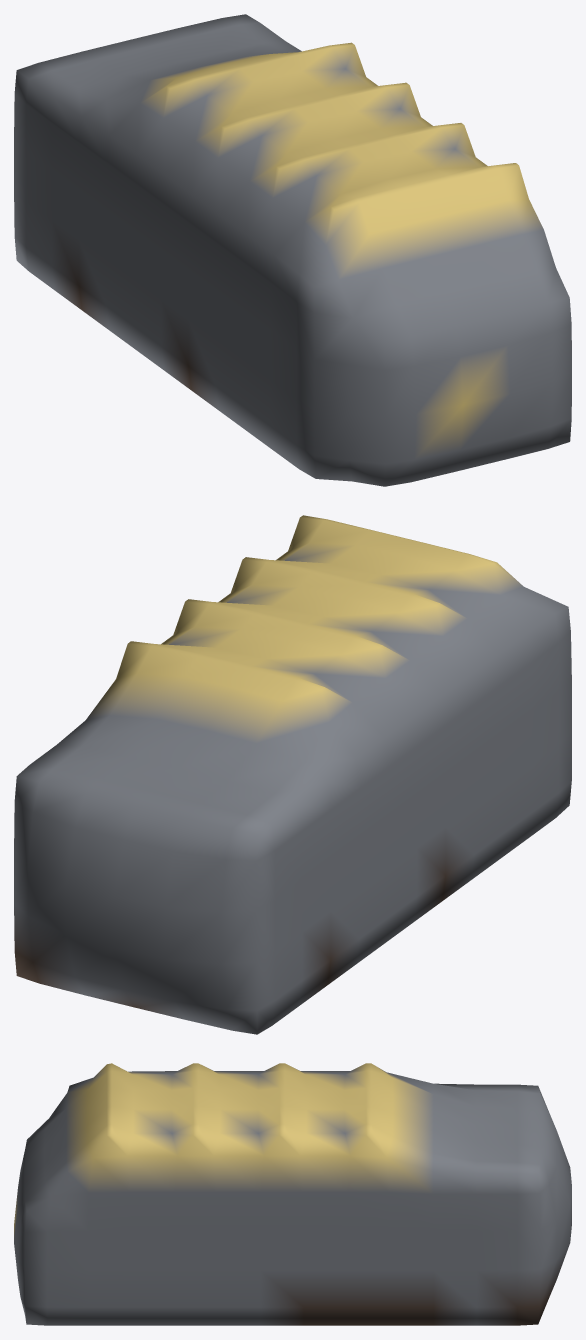
Rendered from plate_epic_boot_foot_L_lod1.glb.
3 views of the same model, one above another, from view 1: azimuth 30°, elevation 25°; view 2: azimuth 150°, elevation 25°; view 3: azimuth 270°, elevation 25° (orthographic). The views are drawn at different scales.
Visible parts, largest first — view 1: plate_epic_boot_foot_L_lod1; view 2: plate_epic_boot_foot_L_lod1; view 3: plate_epic_boot_foot_L_lod1.
Part boxes in pixels (<box>): plate_epic_boot_foot_L_lod1: <box>14,14,571,486</box>; plate_epic_boot_foot_L_lod1: <box>14,515,571,1034</box>; plate_epic_boot_foot_L_lod1: <box>14,1063,571,1325</box>.
Size of the model in its own units: 0.12 by 0.1198 by 0.3098.
